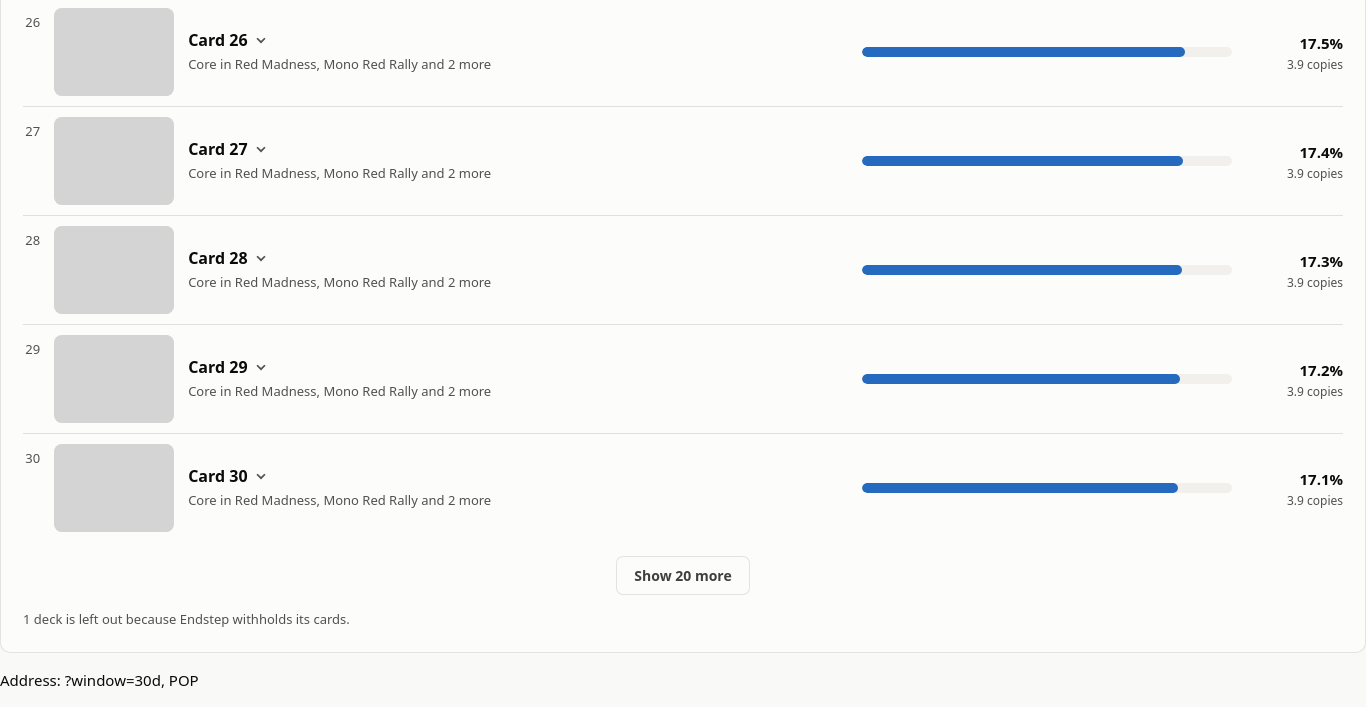
Scenario: StaplesPage › shows 30 cards again after a switch to the other list and back
(page scrolled)
Click the button "Show 20 more" at {"x": 683, "y": 576}, box [616, 556, 750, 595]
(page scrolled)
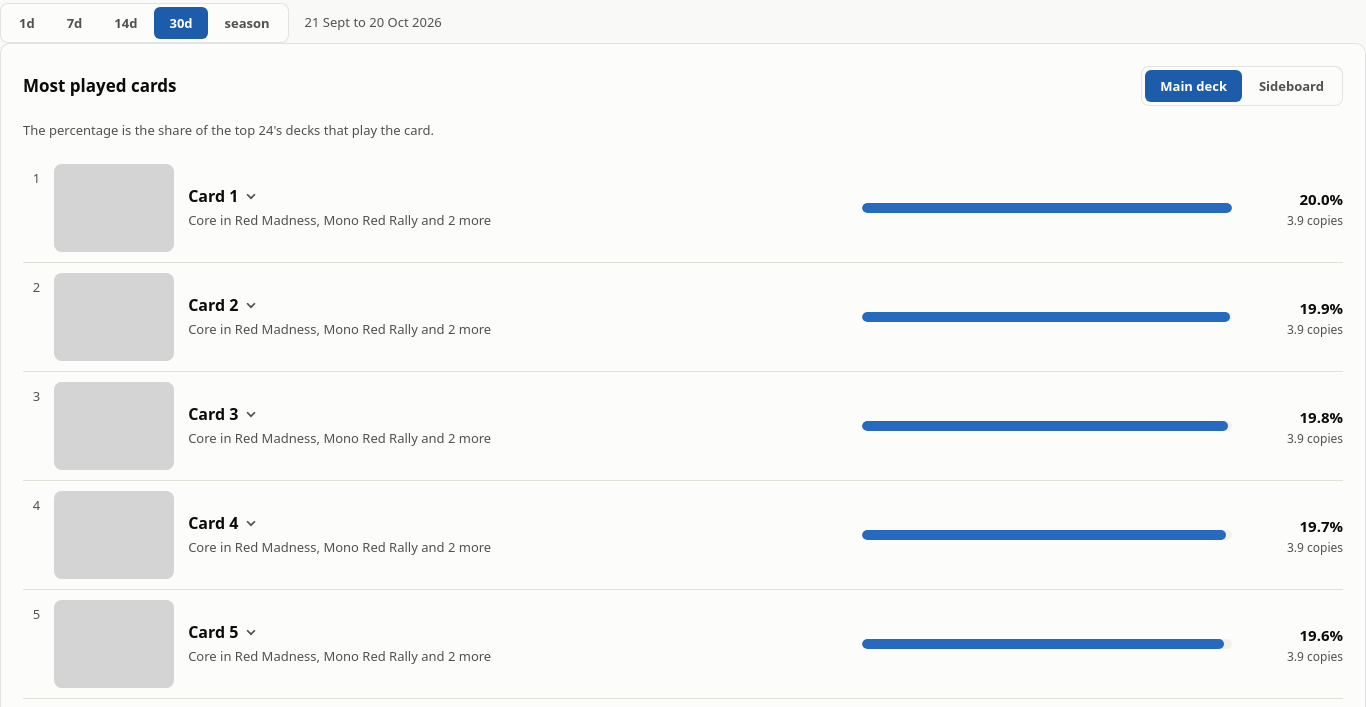
Click the button "Sideboard" at {"x": 1292, "y": 86}, box [1244, 70, 1339, 102]
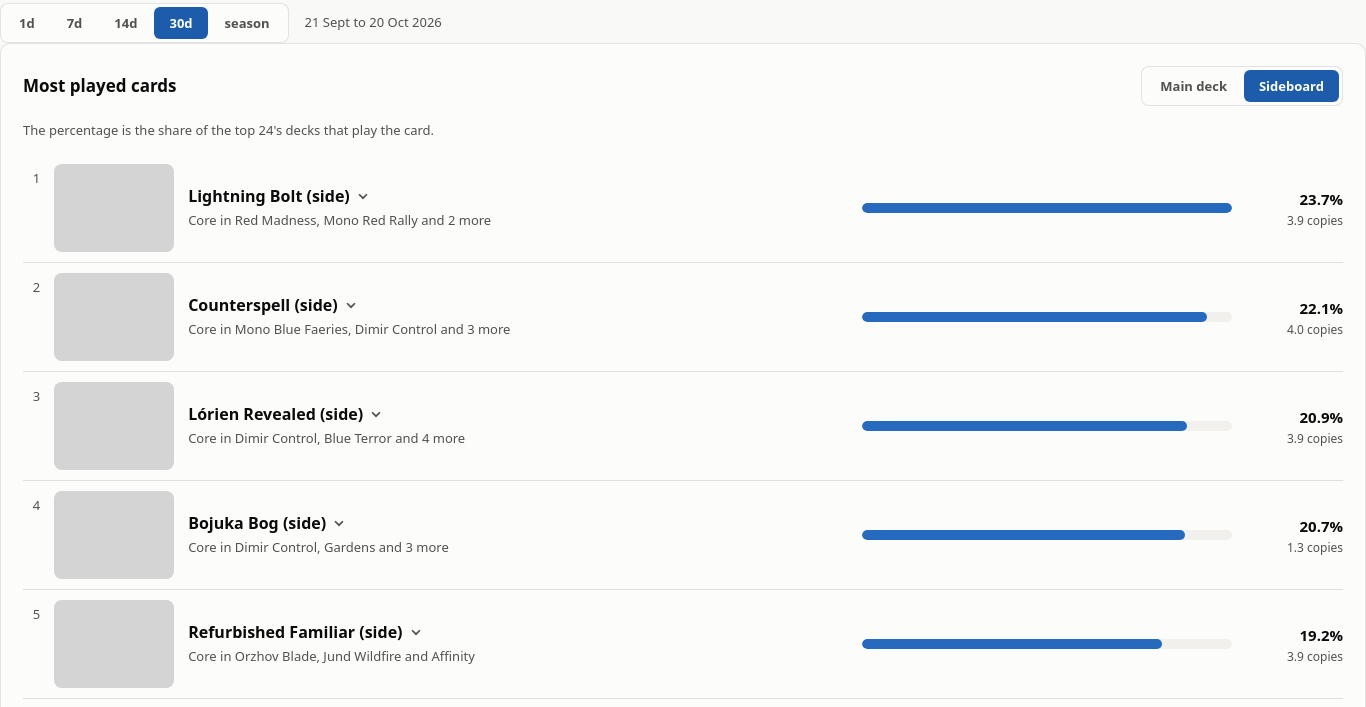
Result: the text "Lightning Bolt (side)" is shown at [188, 186, 350, 206]
Click the button "Main deck" at {"x": 1194, "y": 86}, box [1145, 70, 1242, 102]
(page scrolled)
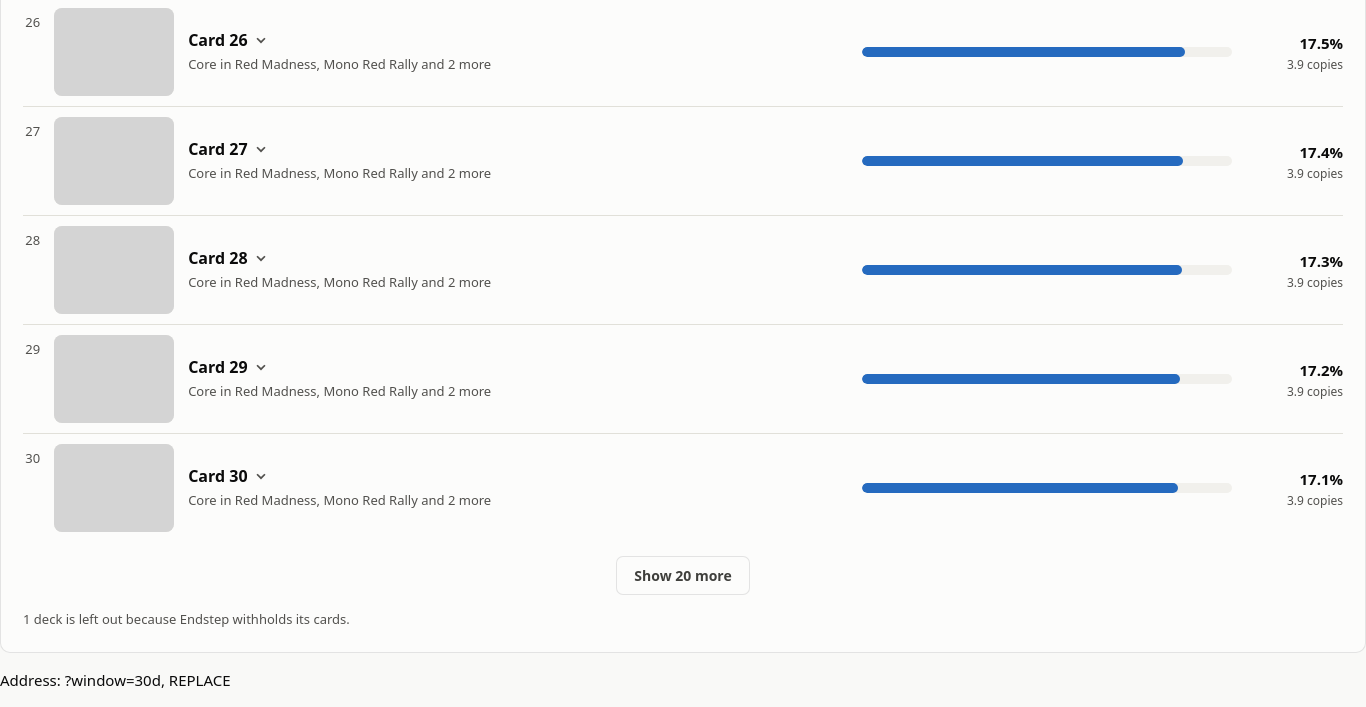
Result: the text "Card 30" is shown at [188, 466, 248, 486]
